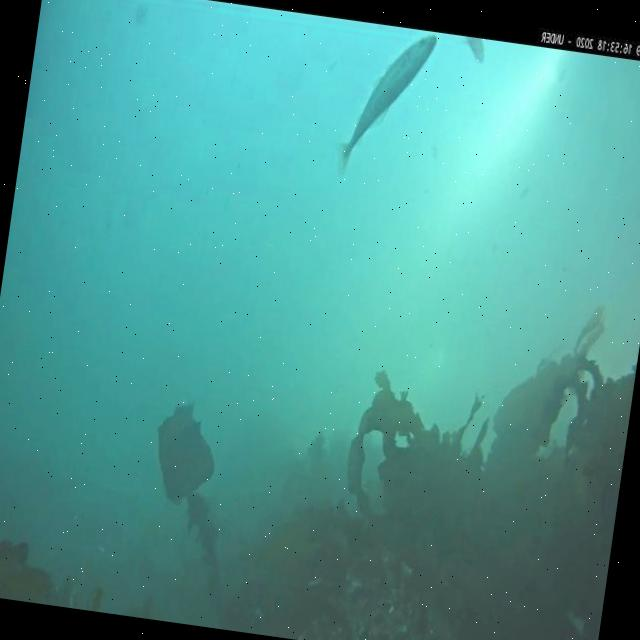fish: (333, 24, 437, 182)
